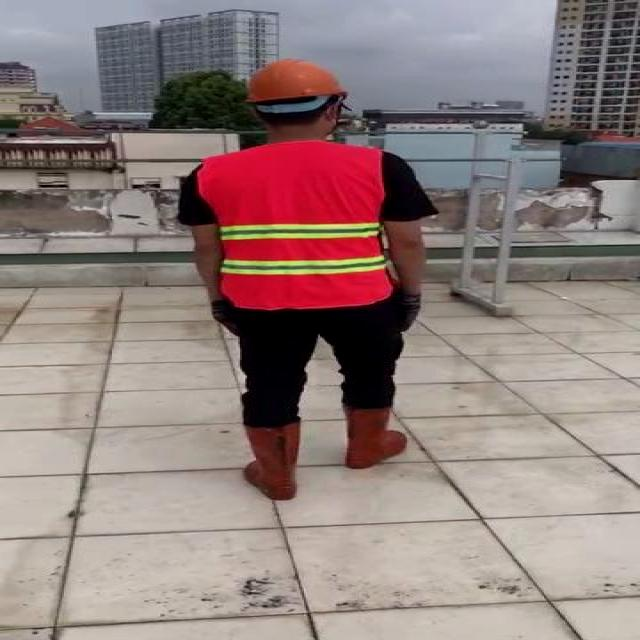boots: (244, 419, 298, 503), (341, 405, 407, 468)
hand_glove: (391, 292, 421, 331), (213, 301, 240, 336)
head_helmet: (245, 52, 348, 106)
person: (175, 50, 445, 500)
vest: (201, 142, 384, 306)
